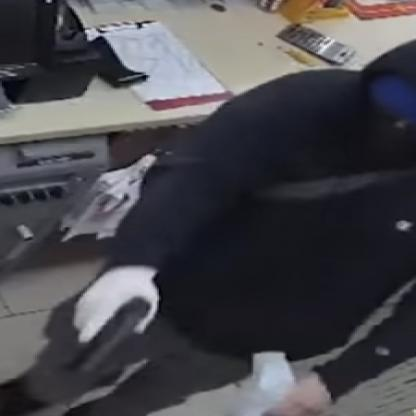weapon: (73, 294, 156, 382)
